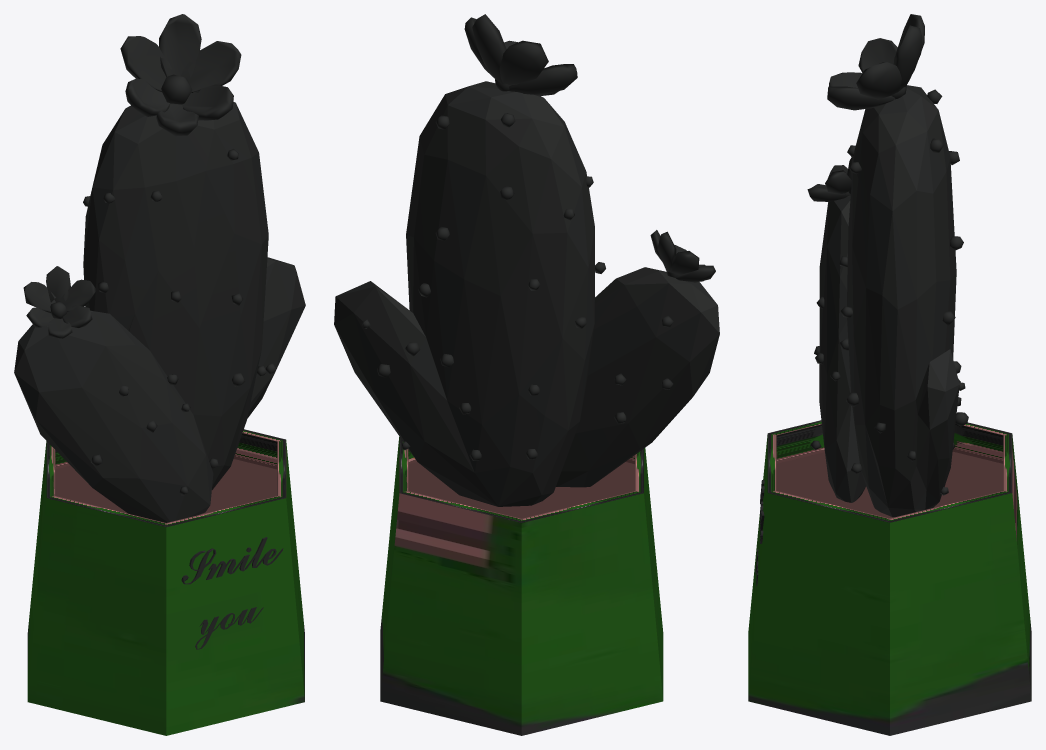
The model's file is Cactus1.glb.
3 renders of one model, left to right at view 1: azimuth 30°, elevation 25°; view 2: azimuth 150°, elevation 25°; view 3: azimuth 270°, elevation 25°, orthographic. The views are drawn at different scales.
Parts seen in each view (by area): view 1: Cactus1; view 2: Cactus1; view 3: Cactus1.
Boxes of the visible parts, <box> form: Cactus1: <box>14,14,305,735</box>; Cactus1: <box>334,14,719,735</box>; Cactus1: <box>748,14,1031,735</box>.
Size of the model in its own units: 0.0968 by 0.1783 by 0.07.
1 material, 1 textured.
